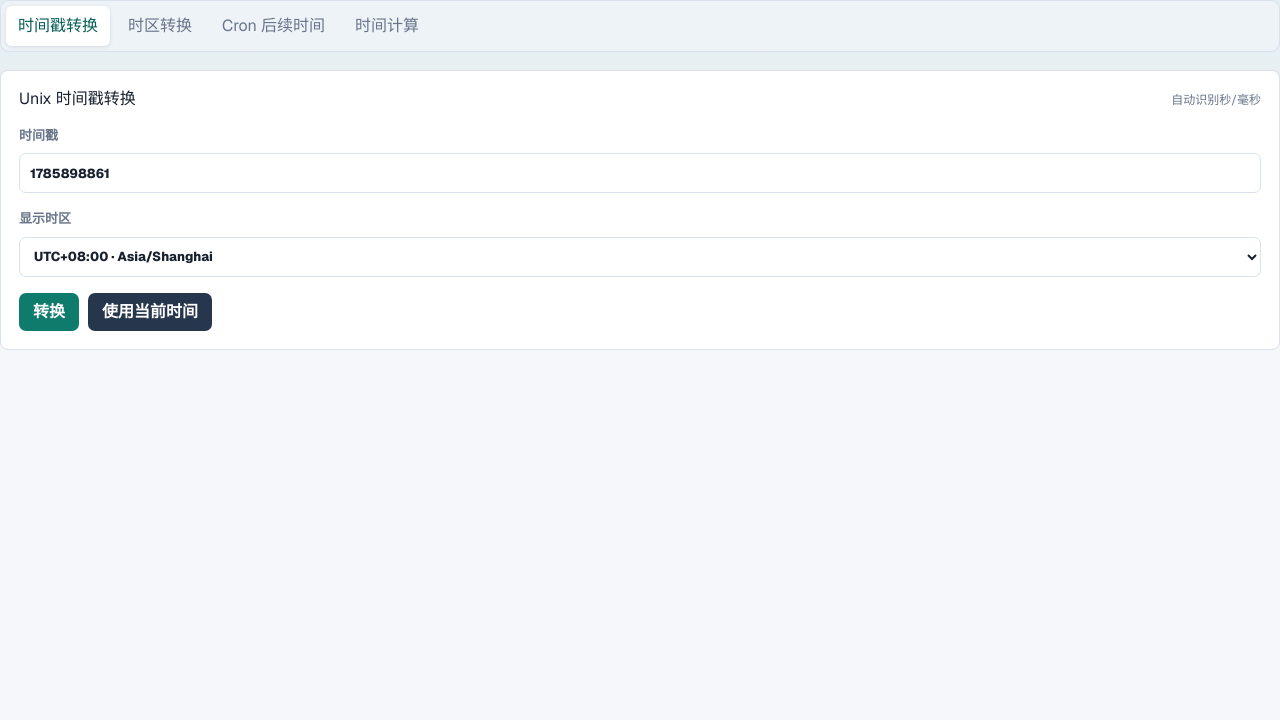
it: workbench keyboard and theme interactions › calculates time differences and calendar-aware date shifts
The width and height of the screenshot is (1280, 720).
Click the tab "时间计算" at (387, 26), box [343,6,431,46]
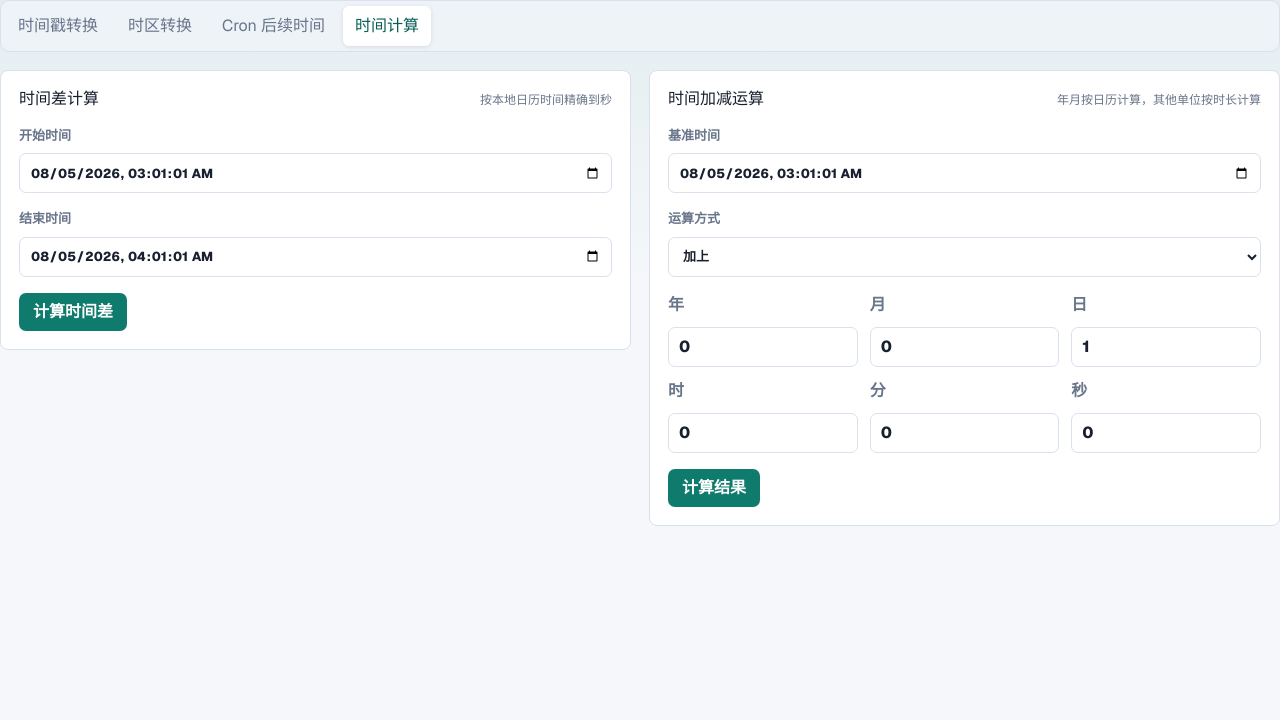
Replace the text in the field labelled "开始时间" with "2026-07-31T10:20:30" at (316, 173), box [19,153,612,193]
Replace the text in the field labelled "结束时间" with "2026-08-01T11:22:33" at (316, 257), box [19,237,612,277]
Click the button "计算时间差" at (73, 312), box [19,293,127,331]
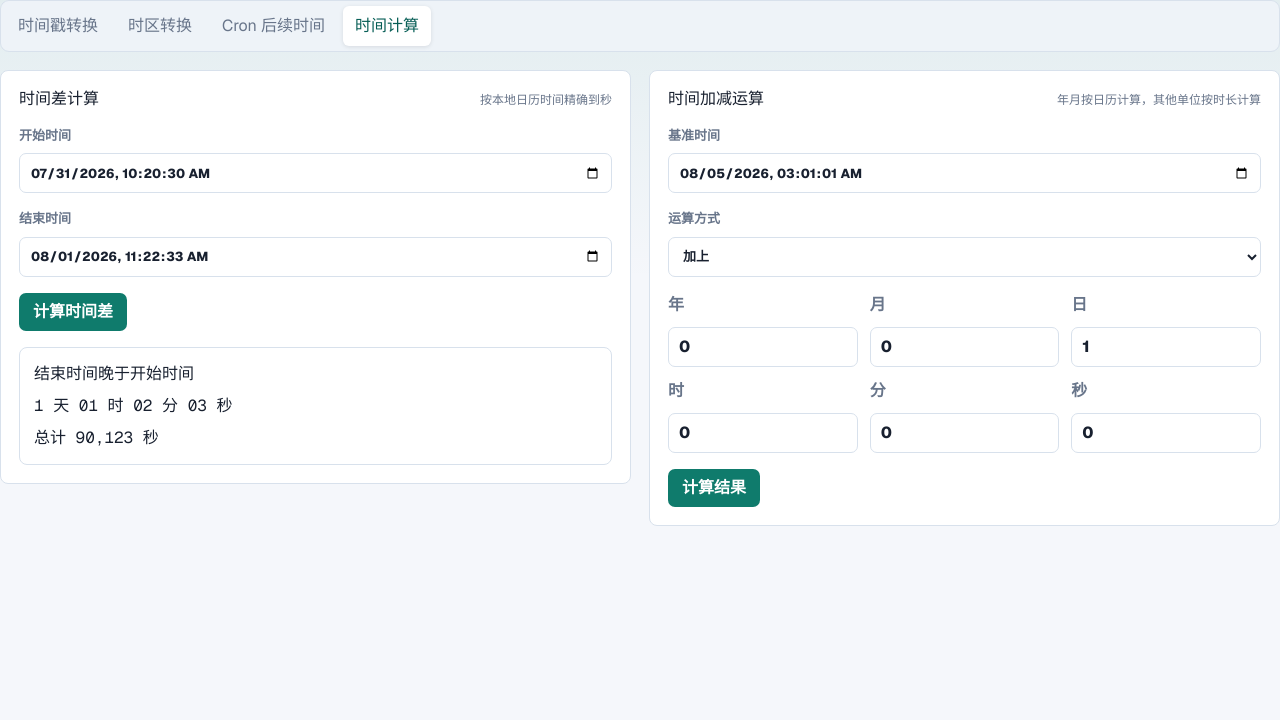
expect the text "1 天 01 时 02 分 03 秒" is shown: met, box [34,395,232,416]
Replace the text in the field labelled "基准时间" with "2026-01-31T12:00:00" at (964, 173), box [668,153,1261,193]
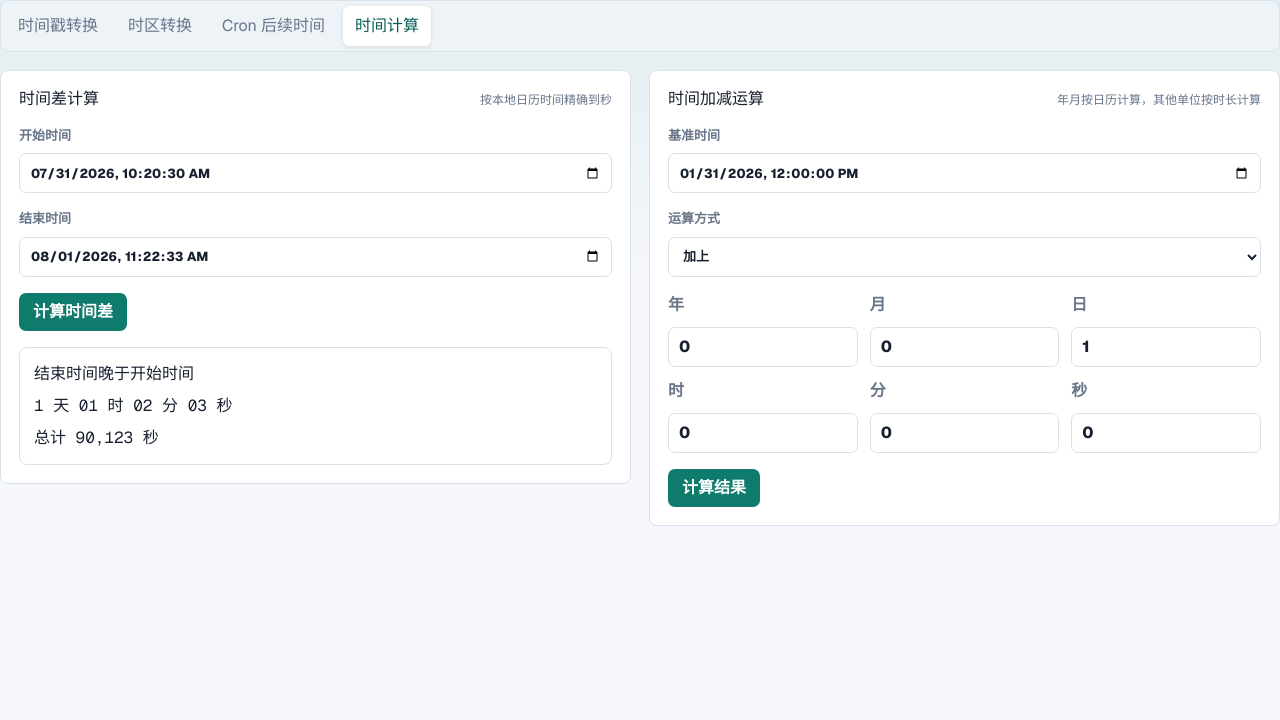
Replace the text in the number field labelled "月" with "1" at (965, 347), box [870,327,1059,367]
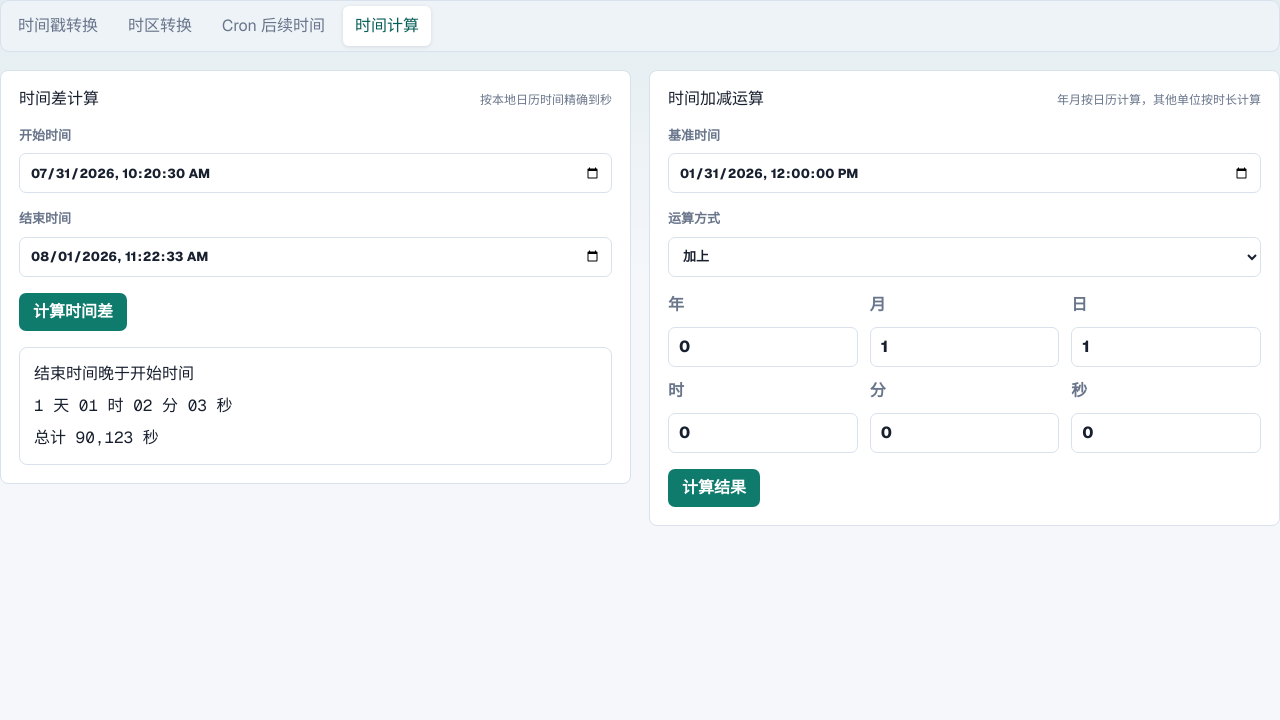
Replace the text in the number field labelled "日" with "0" at (1166, 347), box [1071,327,1261,367]
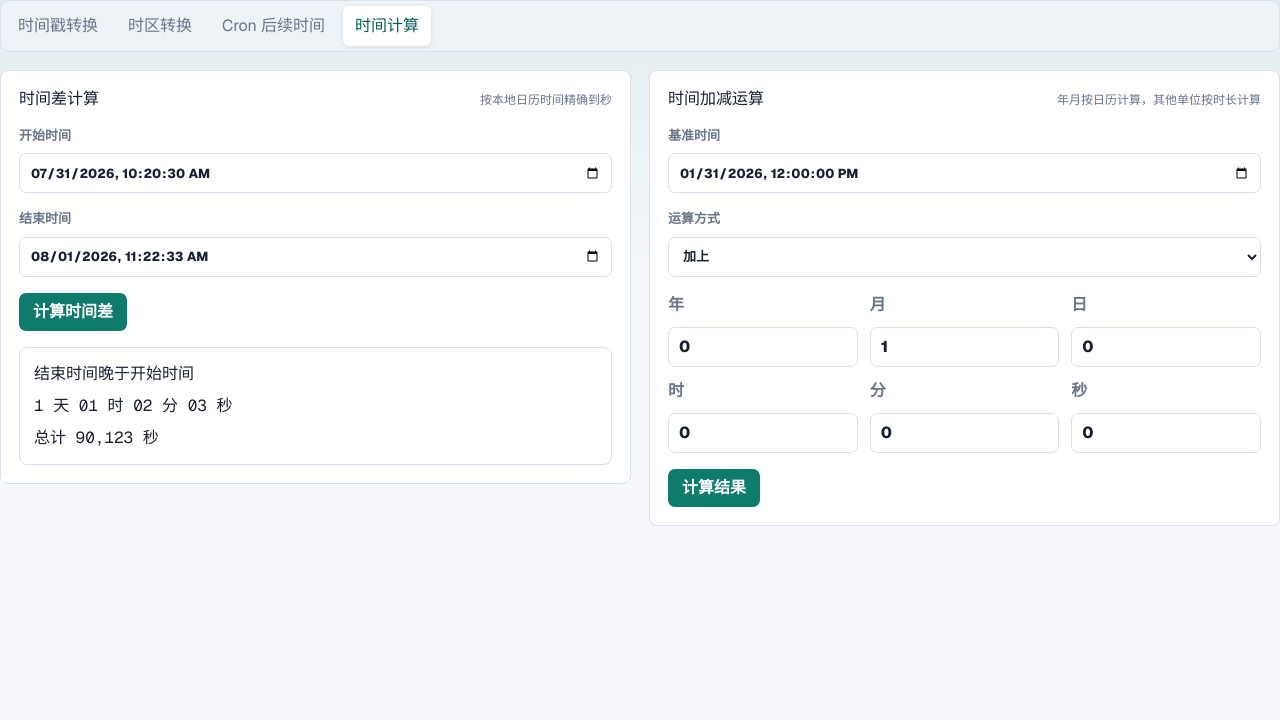
Click the button "计算结果" at (714, 488), box [668,469,760,507]
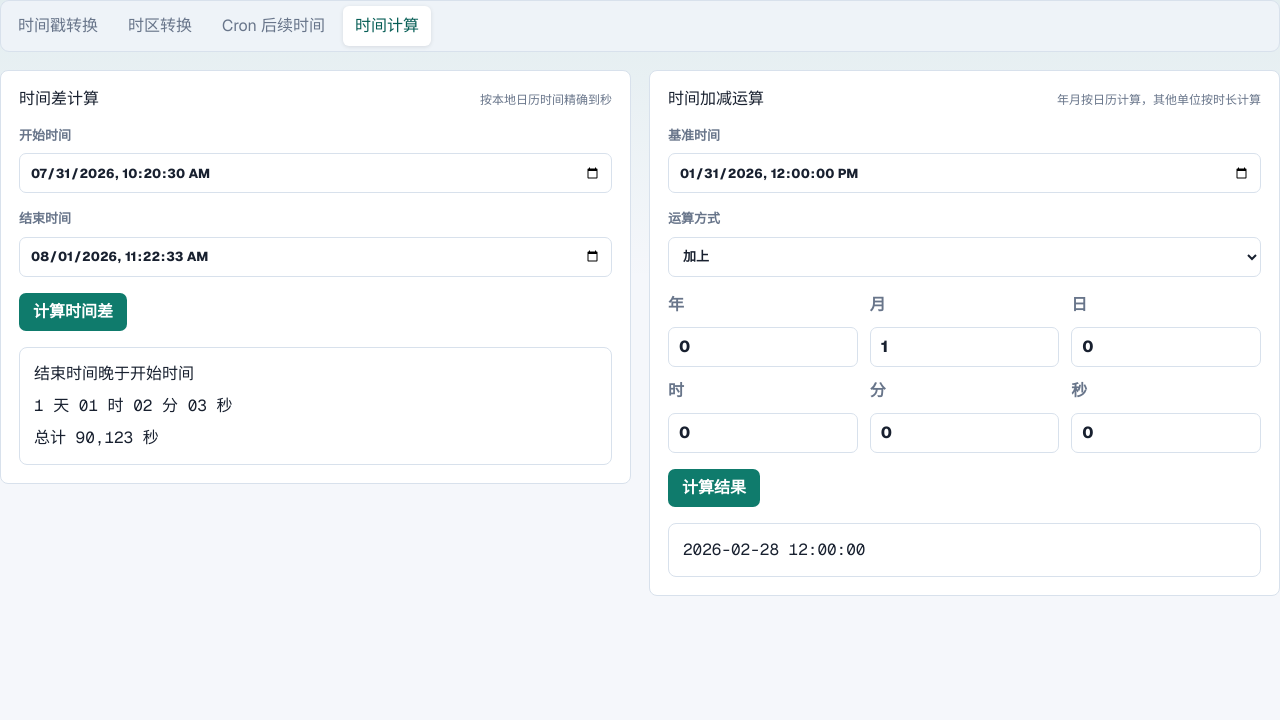
expect the text "2026-02-28 12:00:00" is shown: met, box [683,539,865,560]
